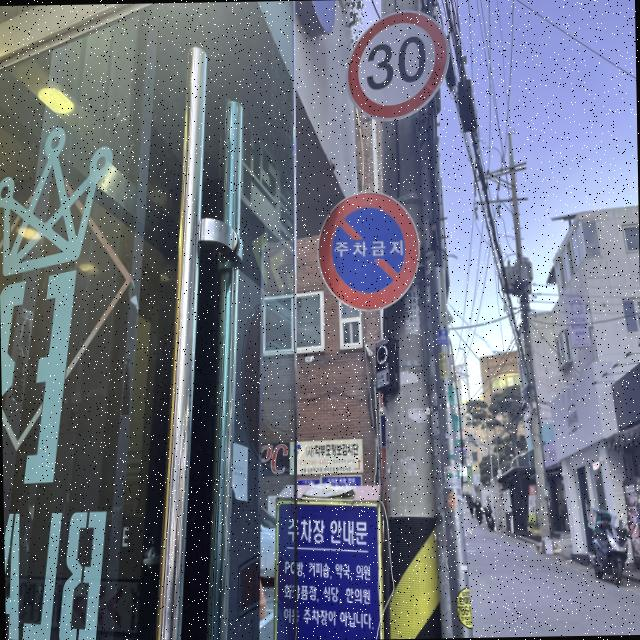Ograniczenie predkosci do 30: (344, 10, 449, 116)
